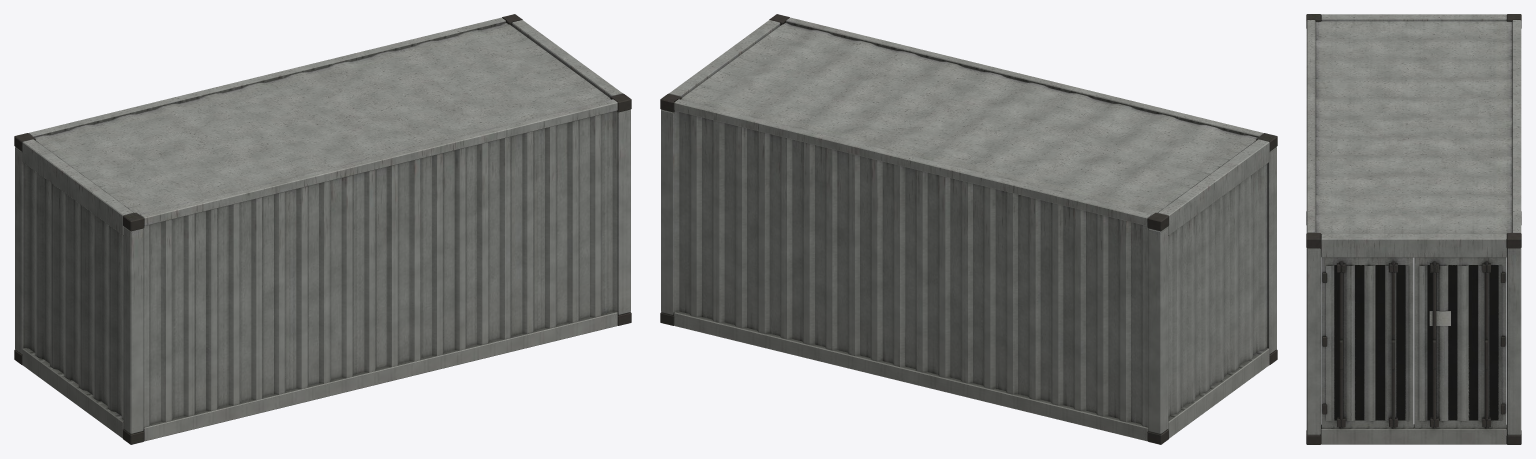
File: container20_grey.glb
The picture shows the model from 3 angles, left to right: view 1: azimuth 30°, elevation 25°; view 2: azimuth 150°, elevation 25°; view 3: azimuth 270°, elevation 25°; orthographic projection. The views are drawn at different scales.
Parts seen in each view (by area): view 1: container20_grey; view 2: container20_grey; view 3: container20_grey.
Boxes of the visible parts, box(x1,y1,x2,y2) form: container20_grey: box(14, 14, 631, 444); container20_grey: box(660, 14, 1277, 444); container20_grey: box(1306, 14, 1521, 444).
Size of the model in its own units: 6.18 by 2.59 by 2.45.
1 material, 1 textured.
